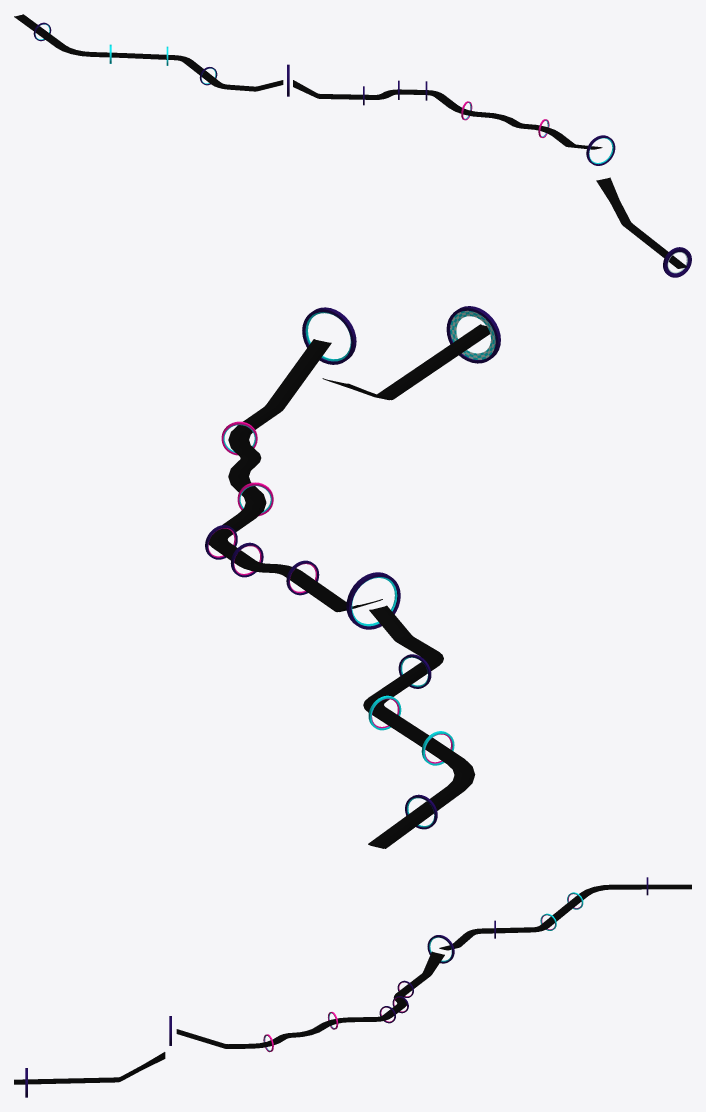
File: Rings_VX (1).FBX
3 views of the same model, one above another, from view 1: azimuth 30°, elevation 25°; view 2: azimuth 150°, elevation 25°; view 3: azimuth 270°, elevation 25° (orthographic). The views are drawn at different scales.
Parts seen in each view (by area): view 1: Rings_III; view 2: Rings_III; view 3: Rings_III.
Part boxes in pixels (bbox=[...]): Rings_III: bbox=[14, 14, 691, 277]; Rings_III: bbox=[205, 306, 500, 848]; Rings_III: bbox=[14, 877, 691, 1097].
Bounding box in the file's own units: 42852 × 11273 × 82434.
